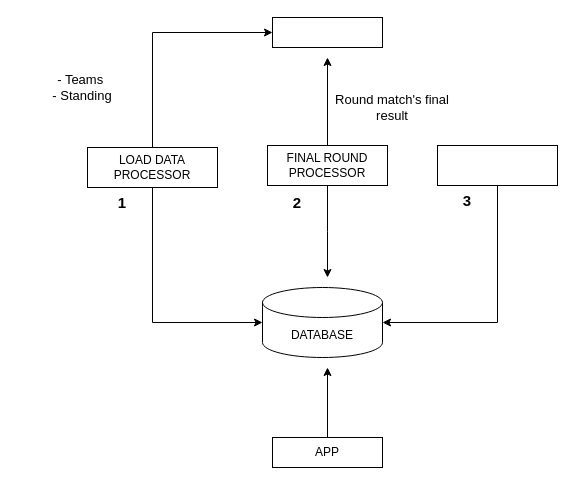
The diagram is 575 pixels wide and 485 high, and some of its shapes have lost their labels. Here are the shapes that lost their labels. From the top down, the centre of each, then its label:
the point at 327,32: FOOTBALL API
the point at 497,165: RESULT APP PROCESSOR
